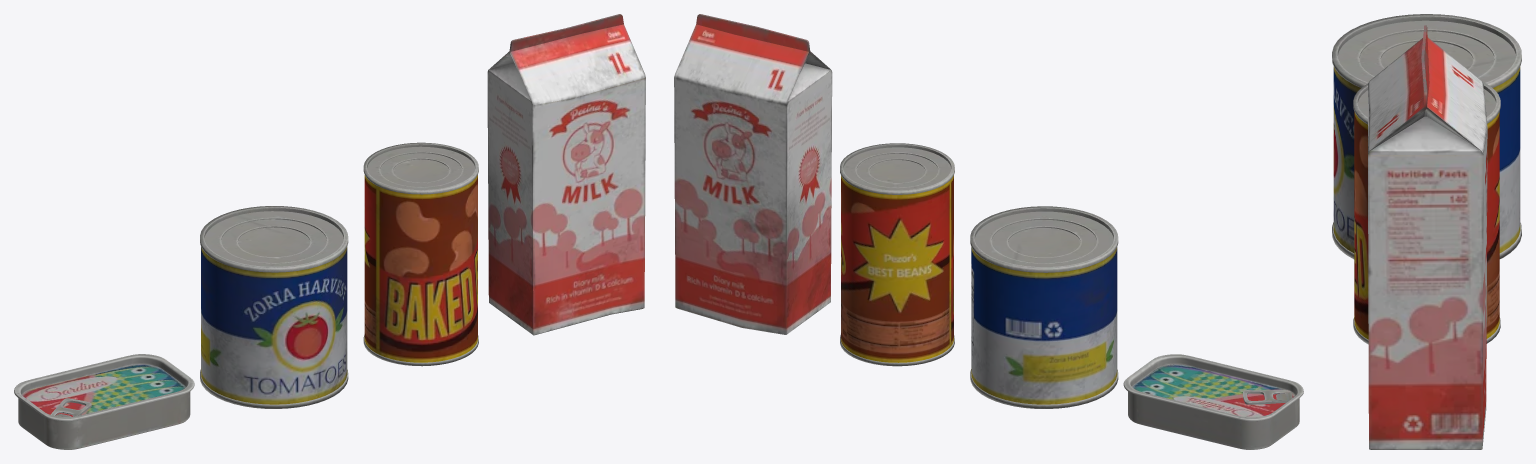
Rendered from long_life_food.9fb0b6d0.glb.
3 views of the same model, side by side, from view 1: azimuth 30°, elevation 25°; view 2: azimuth 150°, elevation 25°; view 3: azimuth 270°, elevation 25° (orthographic). The views are drawn at different scales.
Parts seen in each view (by area): view 1: long_life_food_milk, long_life_food_tomatoes, long_life_food_beans, long_life_food_sardines; view 2: long_life_food_milk, long_life_food_tomatoes, long_life_food_beans, long_life_food_sardines; view 3: long_life_food_milk, long_life_food_tomatoes, long_life_food_beans.
Boxes of the visible parts, x1=… form: long_life_food_milk: x1=487, y1=14, x2=645, y2=335; long_life_food_tomatoes: x1=200, y1=206, x2=348, y2=408; long_life_food_beans: x1=363, y1=142, x2=478, y2=366; long_life_food_sardines: x1=14, y1=354, x2=194, y2=449; long_life_food_milk: x1=674, y1=14, x2=832, y2=334; long_life_food_tomatoes: x1=970, y1=206, x2=1118, y2=408; long_life_food_beans: x1=840, y1=143, x2=954, y2=366; long_life_food_sardines: x1=1123, y1=354, x2=1303, y2=449; long_life_food_milk: x1=1368, y1=25, x2=1487, y2=449; long_life_food_tomatoes: x1=1332, y1=14, x2=1521, y2=259; long_life_food_beans: x1=1353, y1=81, x2=1500, y2=344.
Bounding box in the file's own units: 0.95 × 0.4309 × 0.206.
Materials: 1 (1 with a texture image).
